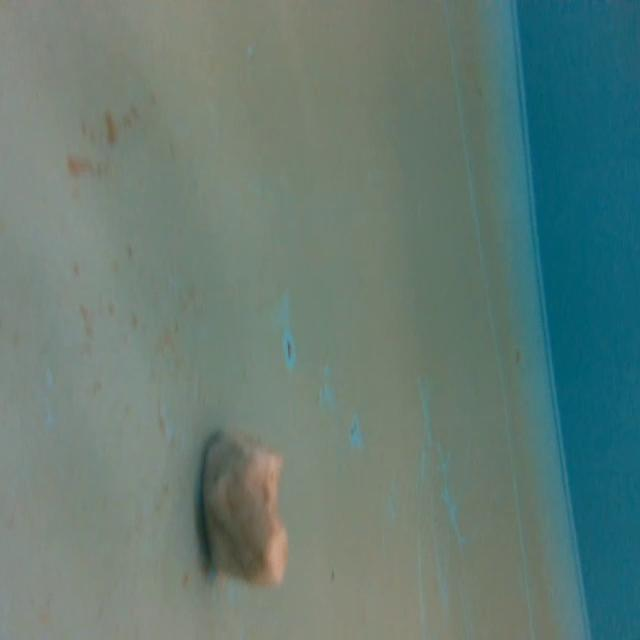rock: (196, 420, 292, 598)
